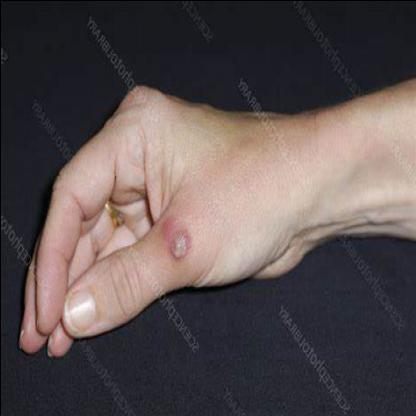Fire ant: (156, 206, 196, 268)
